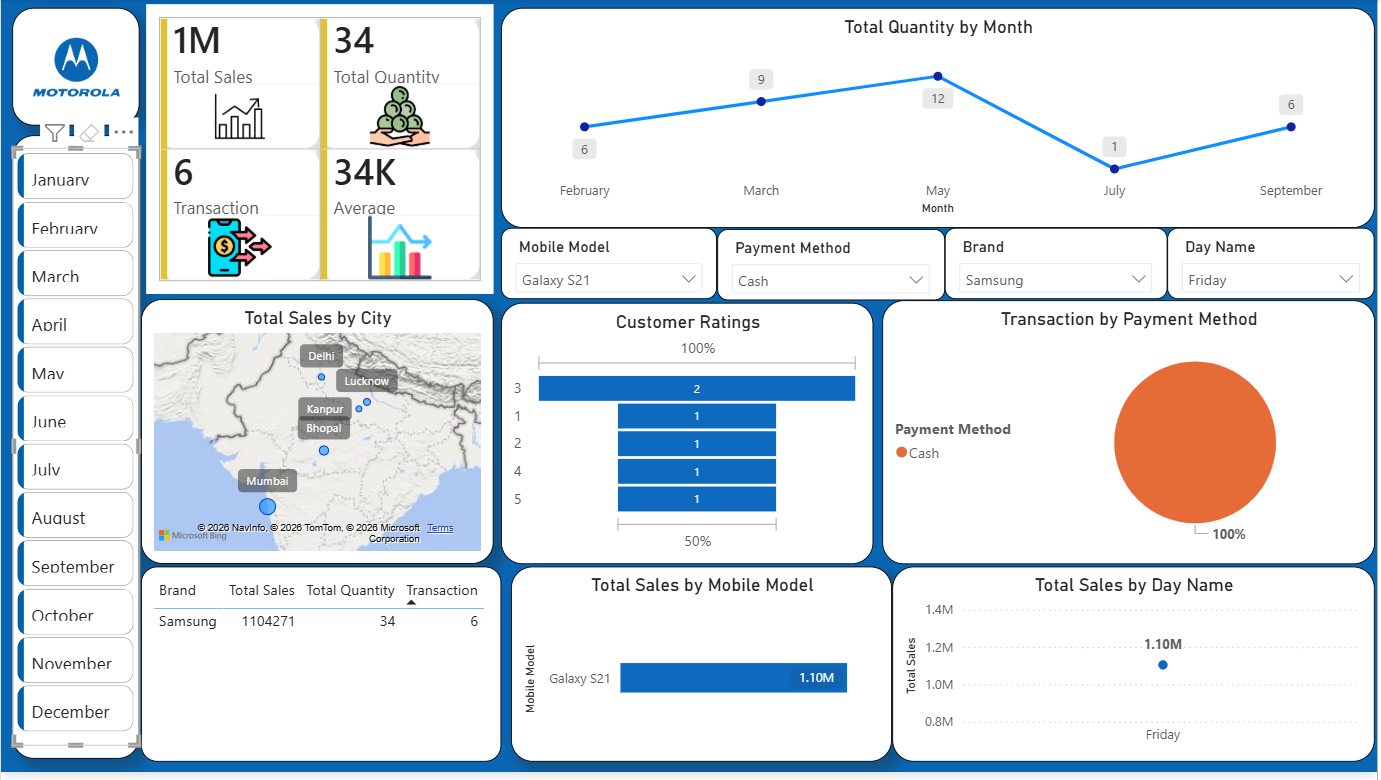

The dashboard page shown, as its layout file describes it:
{"tool":"powerbi","page":{"name":"Page 1","canvas":[1280,720],"ordinal":0},"visuals":[{"type":"shape","box":[10.5,8.1,118.6,109.3],"z":0},{"type":"image","box":[18.6,19.8,101.2,87.2],"z":1000},{"type":"shape","box":[10.5,126.7,118.6,580.2],"z":2000},{"type":"advancedSlicerVisual","fields":{"Values":["Sales_Data.Date.Variation.Date Hierarchy.Month"]},"box":[10.5,138.4,118.6,557],"z":3000},{"type":"cardVisual","fields":{"Data":["Sales_Data.Total Sales","Sales_Data.Total Quantity","Sales_Data.Transaction","Sales_Data.Average"]},"box":[130.2,0,334.9,279.1],"z":4000},{"type":"map","fields":{"Size":["Sales_Data.Total Sales"],"Category":["Sales_Data.City"]},"box":[130.2,279.1,327.9,246.5],"z":5000},{"type":"lineChart","fields":{"Category":["Sales_Data.Date.Variation.Date Hierarchy.Month","Sales_Data.Date.Variation.Date Hierarchy.Day"],"Y":["Sales_Data.Total Quantity"]},"box":[465.1,8.1,812.8,204.7],"z":6000},{"type":"clusteredBarChart","fields":{"Category":["Sales_Data.Mobile Model"],"Y":["Sales_Data.Total Sales"]},"box":[474.4,527.9,354.7,181.4],"z":7000},{"type":"pieChart","fields":{"Category":["Sales_Data.Payment Method"],"Y":["Sales_Data.Transaction"]},"box":[819.8,280.2,458.1,245.3],"z":8000},{"type":"funnel","title":"Customer Ratings","fields":{"Category":["Sales_Data.Customer Ratings"],"Y":["CountNonNull(Sales_Data.Customer Ratings)"]},"box":[465.1,282.6,346.5,243],"z":9000},{"type":"areaChart","fields":{"Category":["Sales_Data.Day Name"],"Y":["Sales_Data.Total Sales"]},"box":[829.1,527.9,448.8,181.4],"z":10000},{"type":"tableEx","fields":{"Values":["Sales_Data.Brand","Sales_Data.Total Sales","Sales_Data.Total Quantity","Sales_Data.Transaction"]},"box":[130.2,527.9,334.9,181.4],"z":11000},{"type":"slicer","fields":{"Values":["Sales_Data.Mobile Model"]},"box":[465.1,212.8,201.2,66.3],"z":12000},{"type":"slicer","fields":{"Values":["Sales_Data.Payment Method"]},"box":[666.3,214,211.6,66.3],"z":13000},{"type":"slicer","fields":{"Values":["Sales_Data.Brand"]},"box":[877.9,212.8,207,66.3],"z":14000},{"type":"slicer","fields":{"Values":["Sales_Data.Day Name"]},"box":[1084.9,212.8,193,66.3],"z":15000}]}

Visuals, with their boxes in screenshot pixels (x1, y1, x2, y2), scaled from the page's 1280x720 canvas onto the 1381x780 screenshot:
shape: <bbox>11, 9, 139, 127</bbox>
image: <bbox>20, 21, 129, 116</bbox>
shape: <bbox>11, 137, 139, 766</bbox>
advancedSlicerVisual - Sales_Data.Date.Variation.Date Hierarchy.Month: <bbox>11, 150, 139, 753</bbox>
cardVisual - Sales_Data.Total Sales x Sales_Data.Total Quantity: <bbox>140, 0, 502, 302</bbox>
map - Sales_Data.Total Sales x Sales_Data.City: <bbox>140, 302, 494, 569</bbox>
lineChart - Sales_Data.Date.Variation.Date Hierarchy.Month x Sales_Data.Date.Variation.Date Hierarchy.Day: <bbox>502, 9, 1379, 231</bbox>
clusteredBarChart - Sales_Data.Mobile Model x Sales_Data.Total Sales: <bbox>512, 572, 895, 768</bbox>
pieChart - Sales_Data.Payment Method x Sales_Data.Transaction: <bbox>884, 304, 1379, 569</bbox>
"Customer Ratings" funnel: <bbox>502, 306, 876, 569</bbox>
areaChart - Sales_Data.Day Name x Sales_Data.Total Sales: <bbox>895, 572, 1379, 768</bbox>
tableEx - Sales_Data.Brand x Sales_Data.Total Sales: <bbox>140, 572, 502, 768</bbox>
slicer - Sales_Data.Mobile Model: <bbox>502, 231, 719, 302</bbox>
slicer - Sales_Data.Payment Method: <bbox>719, 232, 947, 304</bbox>
slicer - Sales_Data.Brand: <bbox>947, 231, 1171, 302</bbox>
slicer - Sales_Data.Day Name: <bbox>1171, 231, 1379, 302</bbox>
